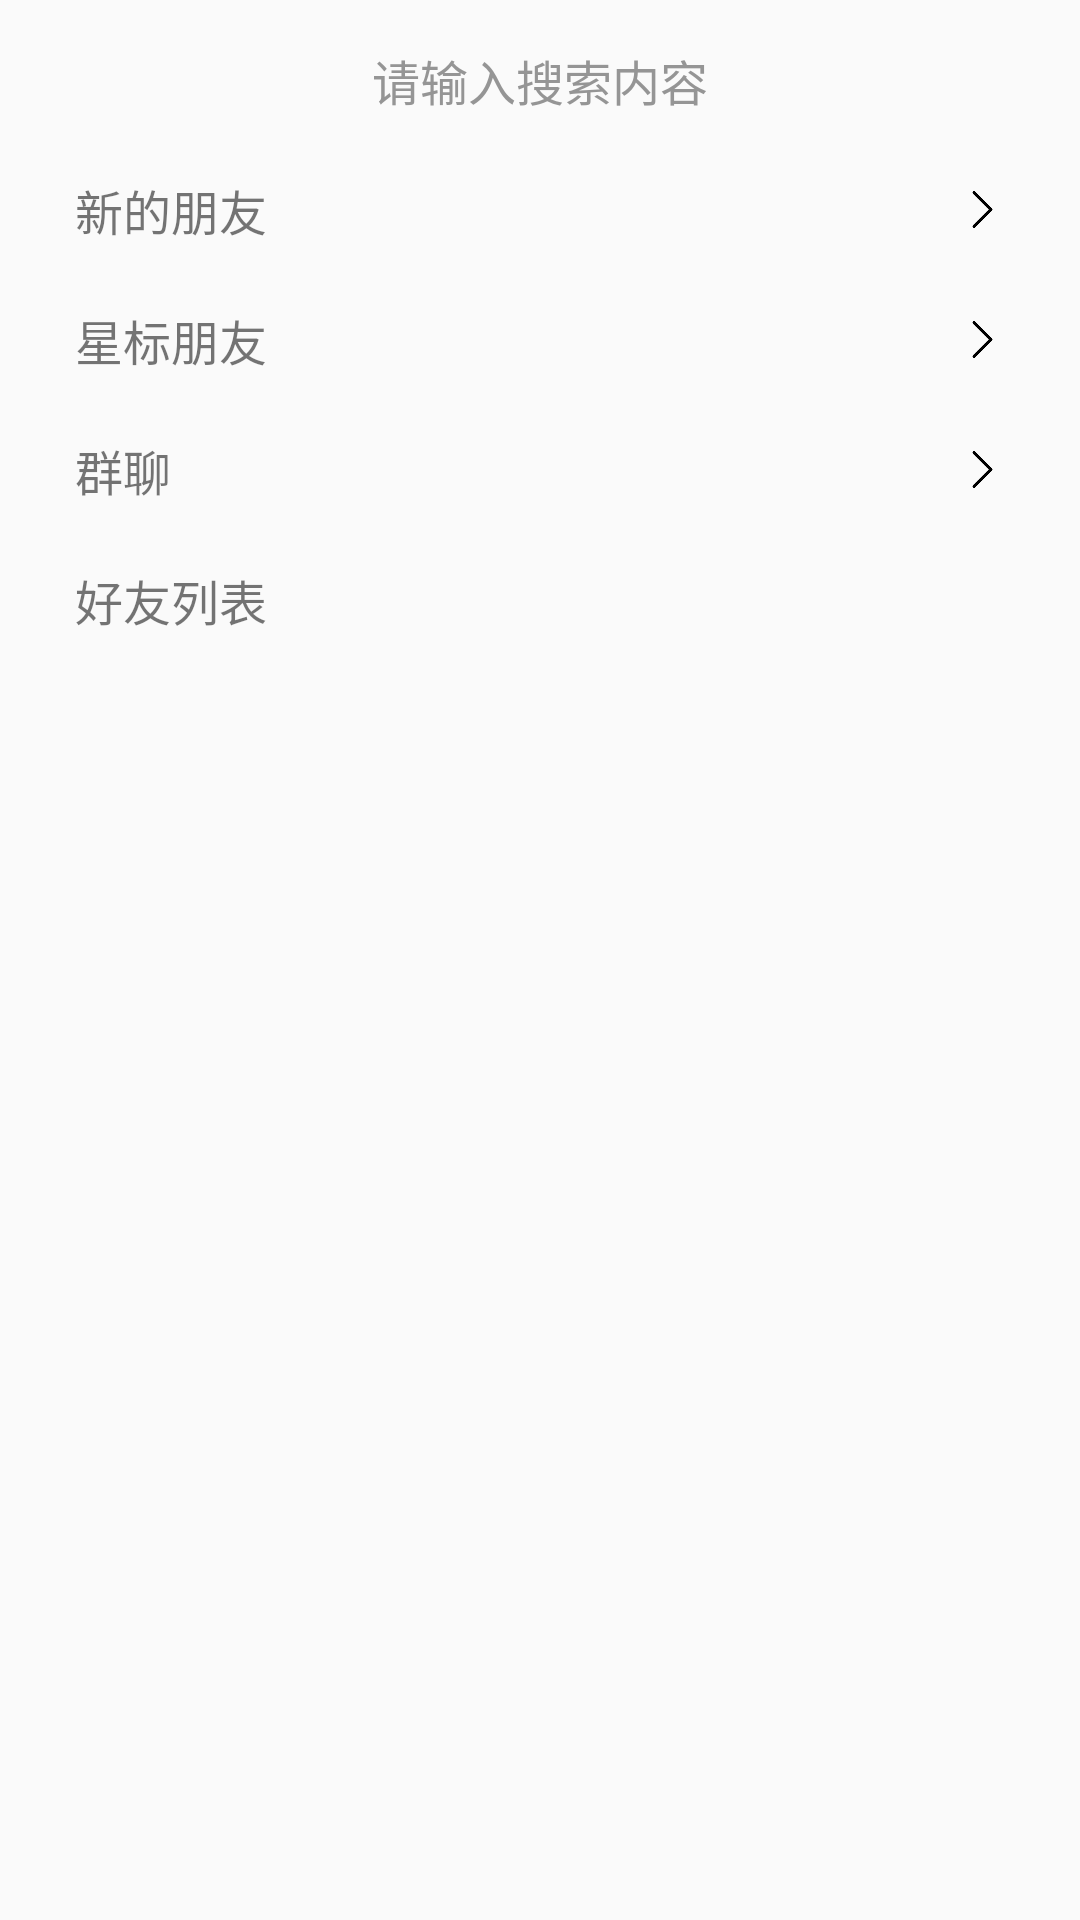

Icons on this 1080*1920 Android screen, each with its box as {"left": x1, "top": y1, "right": x2, "bottom": y2}:
arrow right: {"left": 972, "top": 191, "right": 993, "bottom": 228}, {"left": 972, "top": 321, "right": 993, "bottom": 358}, {"left": 972, "top": 451, "right": 993, "bottom": 488}
